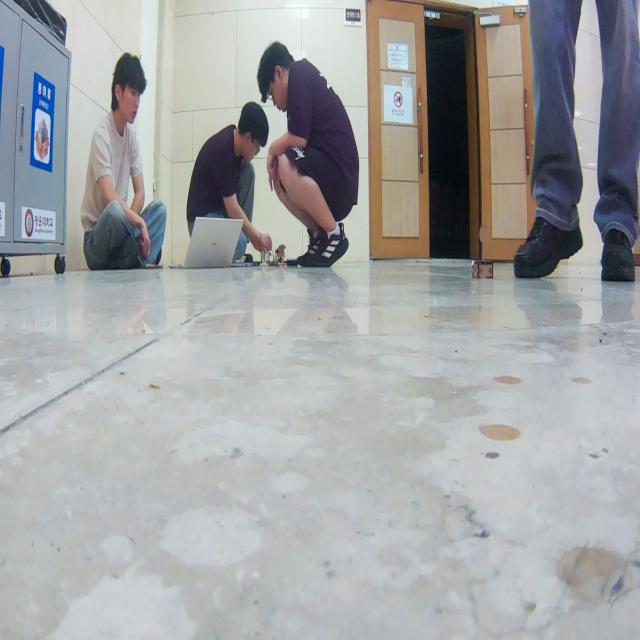target: (472, 224, 494, 280)
